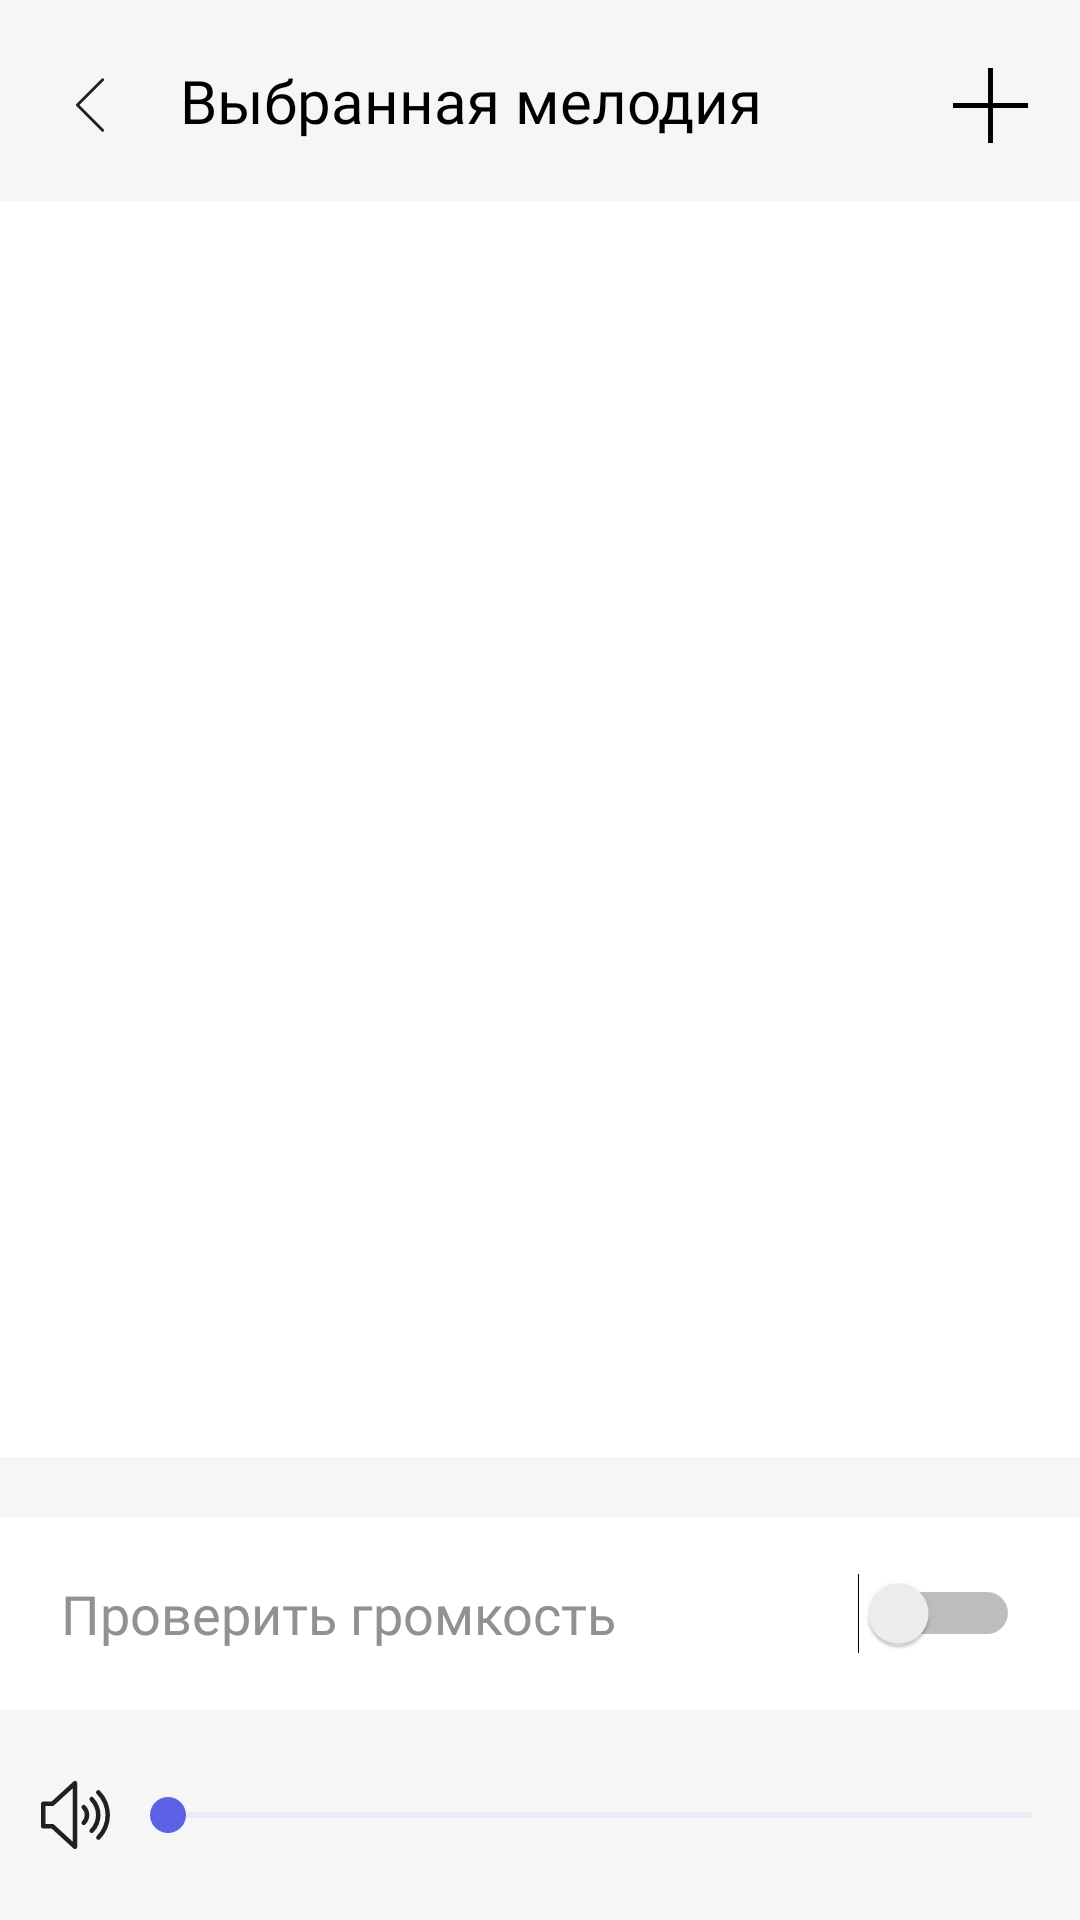

Icons on this 1080*1920 Android screen, each with its box as box=[x1, y1, x2, y2]:
back: box=[76, 78, 104, 132]
plus: box=[953, 68, 1028, 143]
sound volume: box=[41, 1781, 110, 1849]
